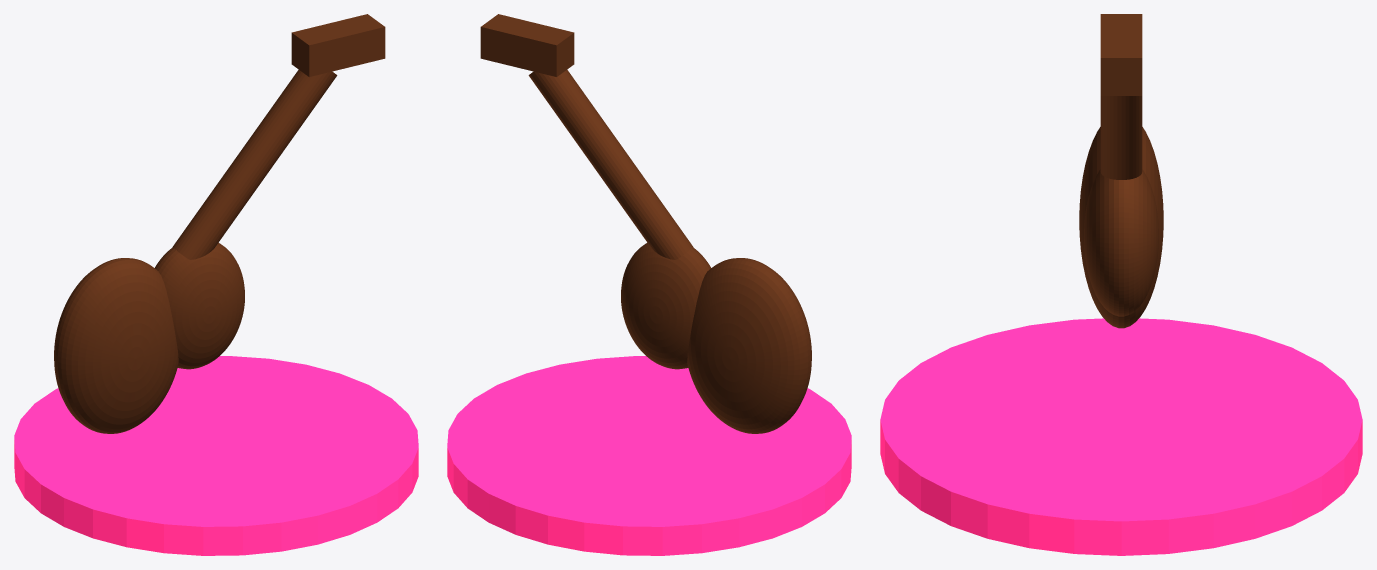
Rendered from music_acoustic_guitar.dae.
The picture shows the model from 3 angles, left to right: view 1: azimuth 30°, elevation 25°; view 2: azimuth 150°, elevation 25°; view 3: azimuth 270°, elevation 25°; orthographic projection. The views are drawn at different scales.
Visible parts, largest first — view 1: 07_14_Popular_Music_Acoustic_Guitar_ROOT_base, 07_14_Popular_Music_Acoustic_Guitar_part_01, 07_14_Popular_Music_Acoustic_Guitar_part_03, 07_14_Popular_Music_Acoustic_Guitar_part_02, 07_14_Popular_Music_Acoustic_Guitar_part_04; view 2: 07_14_Popular_Music_Acoustic_Guitar_ROOT_base, 07_14_Popular_Music_Acoustic_Guitar_part_01, 07_14_Popular_Music_Acoustic_Guitar_part_03, 07_14_Popular_Music_Acoustic_Guitar_part_02, 07_14_Popular_Music_Acoustic_Guitar_part_04; view 3: 07_14_Popular_Music_Acoustic_Guitar_ROOT_base, 07_14_Popular_Music_Acoustic_Guitar_part_02, 07_14_Popular_Music_Acoustic_Guitar_part_03, 07_14_Popular_Music_Acoustic_Guitar_part_04, 07_14_Popular_Music_Acoustic_Guitar_part_01.
Part boxes in pixels (x1,y1,x2,y2): 07_14_Popular_Music_Acoustic_Guitar_ROOT_base: (14,356,418,555); 07_14_Popular_Music_Acoustic_Guitar_part_01: (54,258,178,433); 07_14_Popular_Music_Acoustic_Guitar_part_03: (172,69,337,259); 07_14_Popular_Music_Acoustic_Guitar_part_02: (155,242,244,369); 07_14_Popular_Music_Acoustic_Guitar_part_04: (291,14,385,76); 07_14_Popular_Music_Acoustic_Guitar_ROOT_base: (447,356,851,555); 07_14_Popular_Music_Acoustic_Guitar_part_01: (687,258,811,433); 07_14_Popular_Music_Acoustic_Guitar_part_03: (528,69,693,259); 07_14_Popular_Music_Acoustic_Guitar_part_02: (621,242,710,369); 07_14_Popular_Music_Acoustic_Guitar_part_04: (480,14,574,76); 07_14_Popular_Music_Acoustic_Guitar_ROOT_base: (880,318,1362,555); 07_14_Popular_Music_Acoustic_Guitar_part_02: (1084,169,1158,316); 07_14_Popular_Music_Acoustic_Guitar_part_03: (1100,96,1142,179); 07_14_Popular_Music_Acoustic_Guitar_part_04: (1100,14,1142,95); 07_14_Popular_Music_Acoustic_Guitar_part_01: (1079,127,1163,328).
Bounding box in the file's own units: 0.76 × 0.85 × 0.76.
